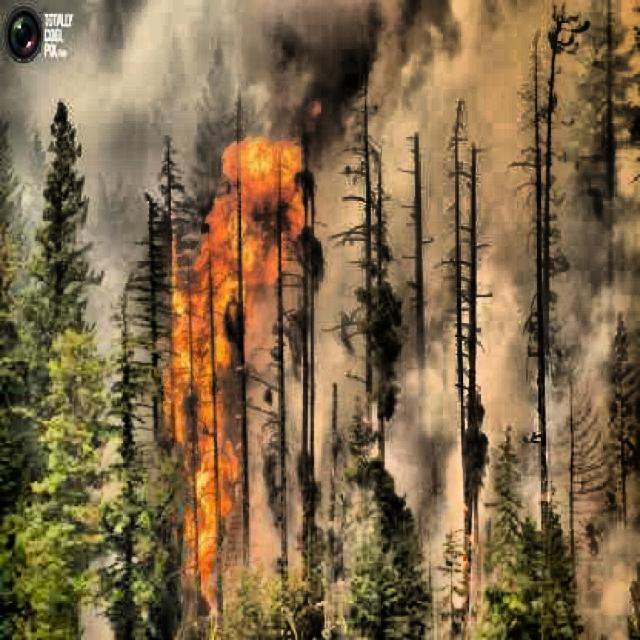Fire: (164, 142, 307, 580)
